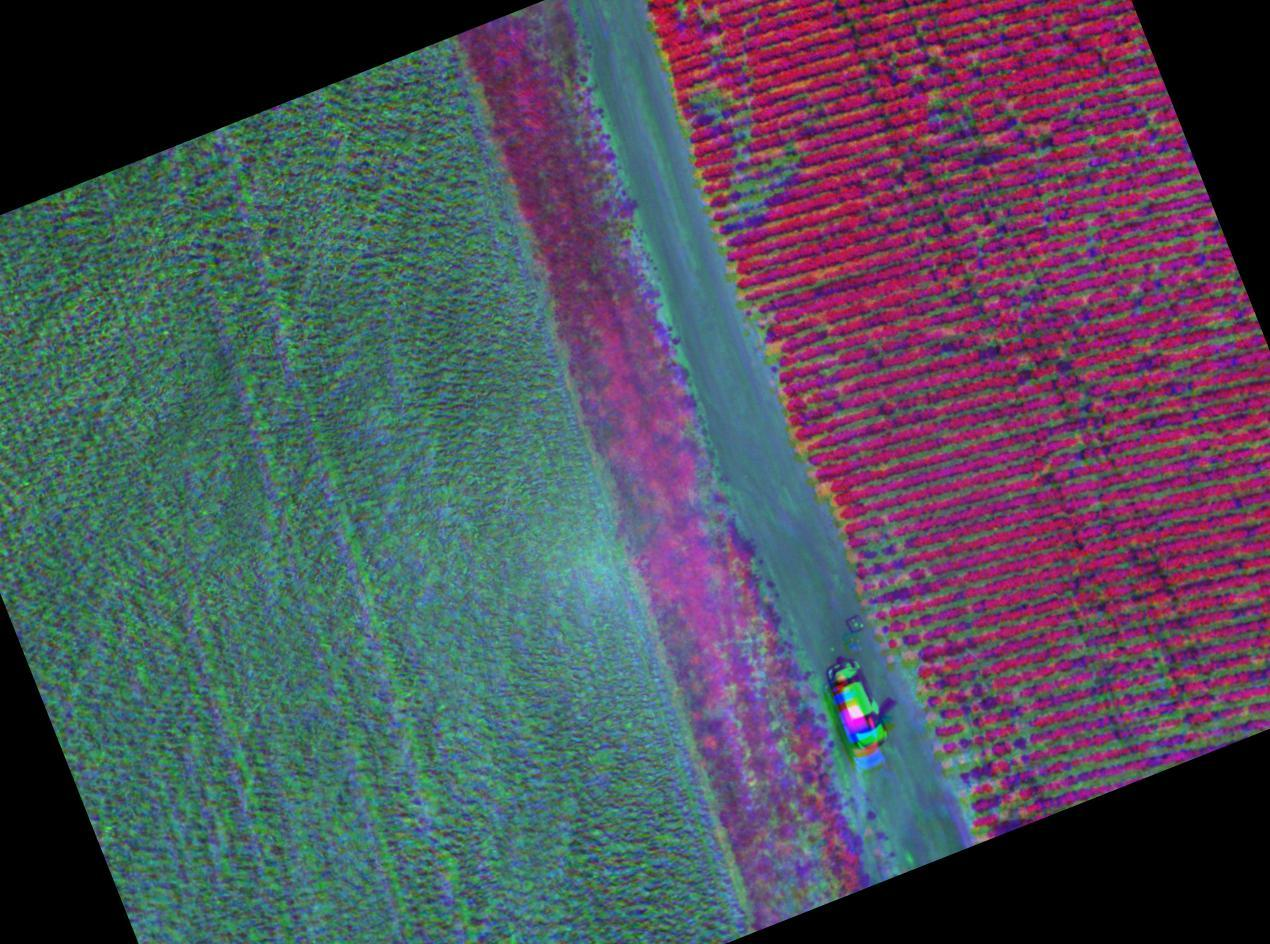dc: (941, 725, 1043, 817), (1123, 636, 1199, 747), (720, 162, 818, 234), (700, 67, 762, 148), (890, 609, 939, 682)
